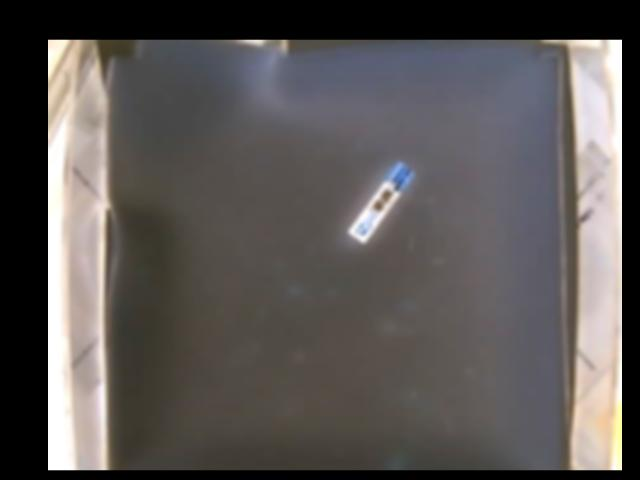Battery: (348, 162, 415, 240)
